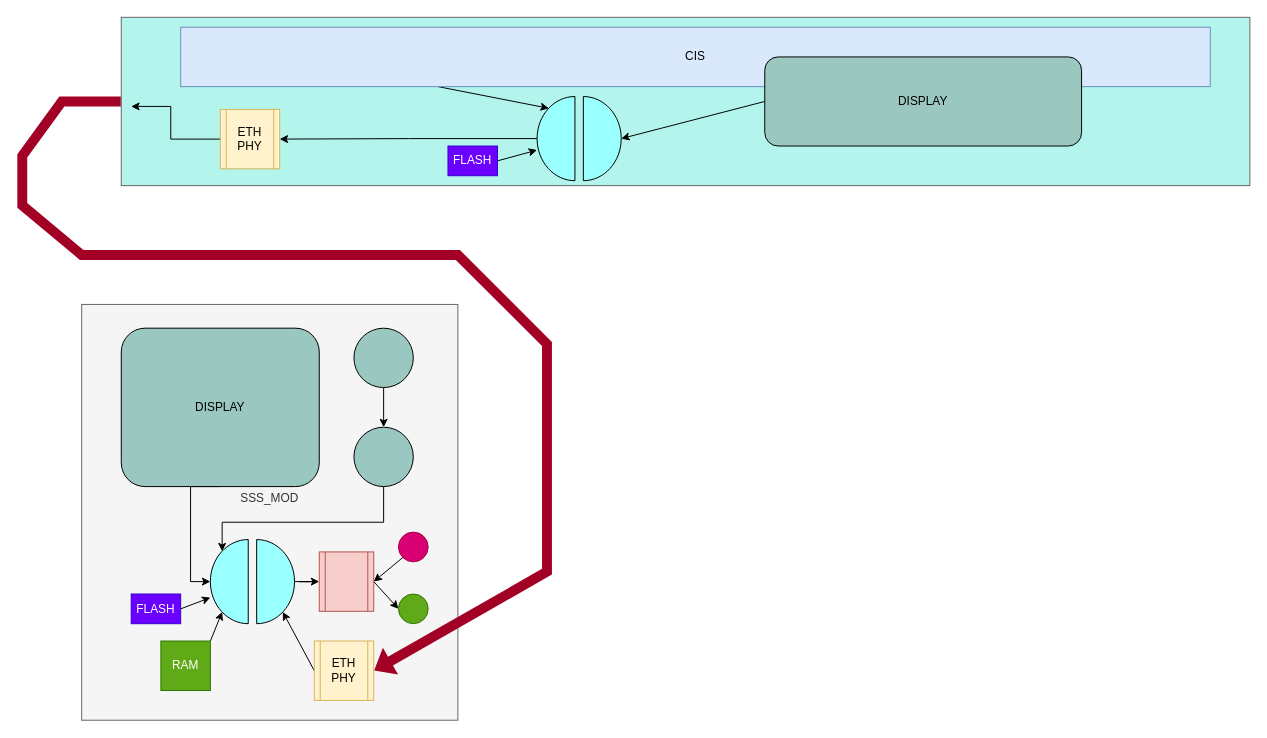
This 1267x738 diagram has some shape labels left out. Here are the shapes that lost their labels. From the top down, the box of each, then its label:
(120, 16, 1250, 186): SSS_CIS
(536, 96, 621, 181): M7 M4
(209, 539, 295, 624): M4 M7
(318, 551, 374, 611): CODEC AUDIO
